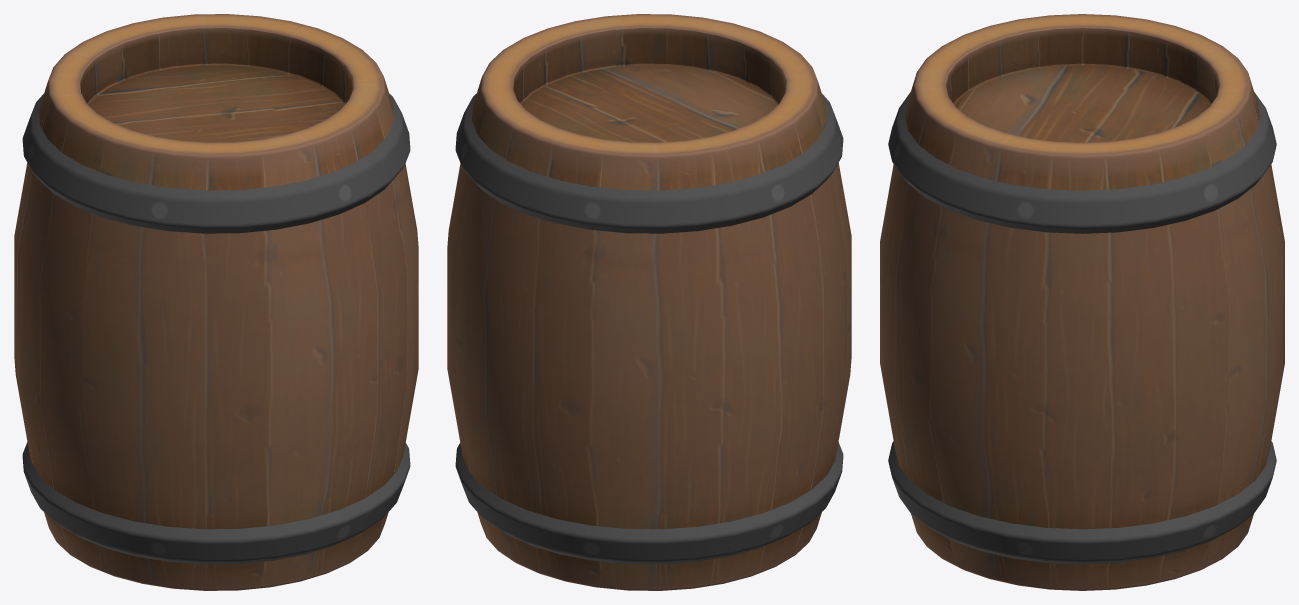
The model's file is Barrell.fbx.
3 views of the same model, side by side, from view 1: azimuth 30°, elevation 25°; view 2: azimuth 150°, elevation 25°; view 3: azimuth 270°, elevation 25° (orthographic).
Visible parts, largest first — view 1: Barrell; view 2: Barrell; view 3: Barrell.
Boxes of the visible parts, left/top/right/bottom form: Barrell: left=14, top=14, right=418, bottom=590; Barrell: left=447, top=14, right=851, bottom=590; Barrell: left=880, top=14, right=1284, bottom=590.
Bounding box in the file's own units: 88.47 × 105 × 88.47.
1 material, 1 textured.
